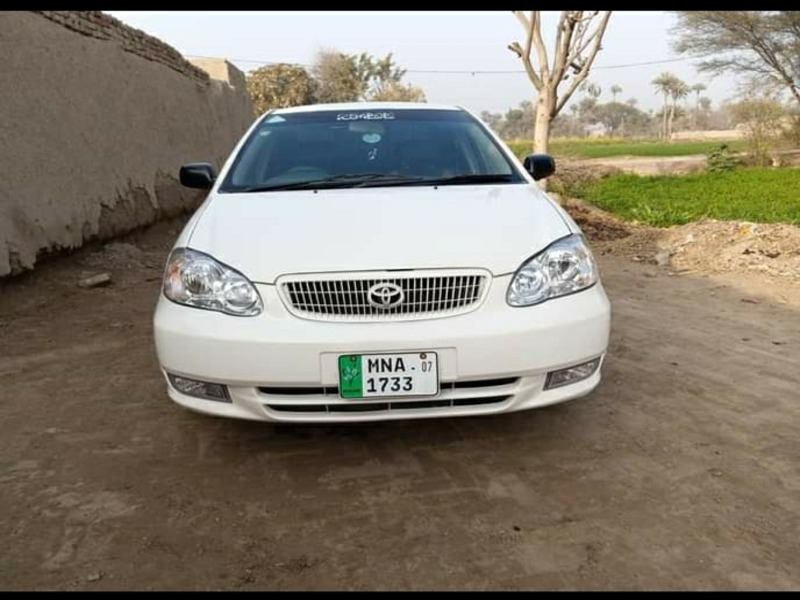License Plate: (335, 350, 444, 407)
